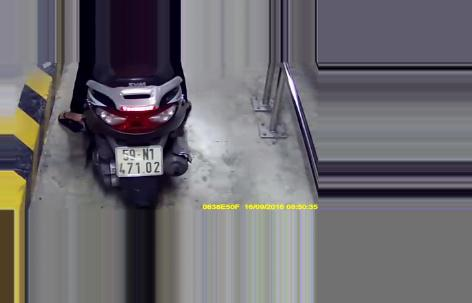License_Plate: (112, 143, 167, 181)
